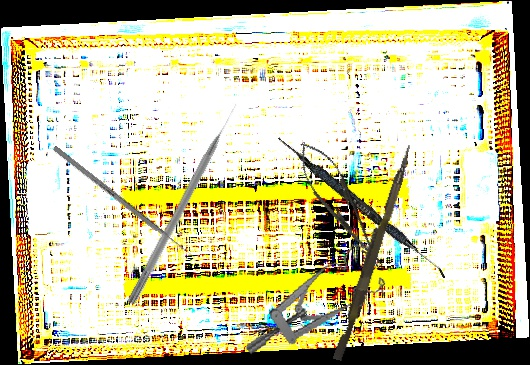Needle Holder: (287, 133, 395, 277)
Pusher: (125, 100, 244, 308), (332, 142, 414, 363), (52, 145, 197, 261)
Spatula Surgical: (273, 135, 452, 279)
Speculum: (228, 240, 395, 356)
